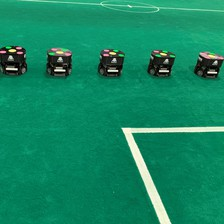robot: (43, 45, 74, 80), (95, 46, 127, 78), (145, 46, 176, 78), (1, 42, 28, 77), (193, 48, 224, 78)
